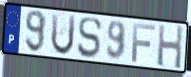9: (24, 9, 48, 55), (105, 20, 126, 63)
F: (131, 22, 157, 64)
H: (156, 23, 184, 71)
S: (76, 17, 103, 60)
U: (49, 12, 77, 57)
